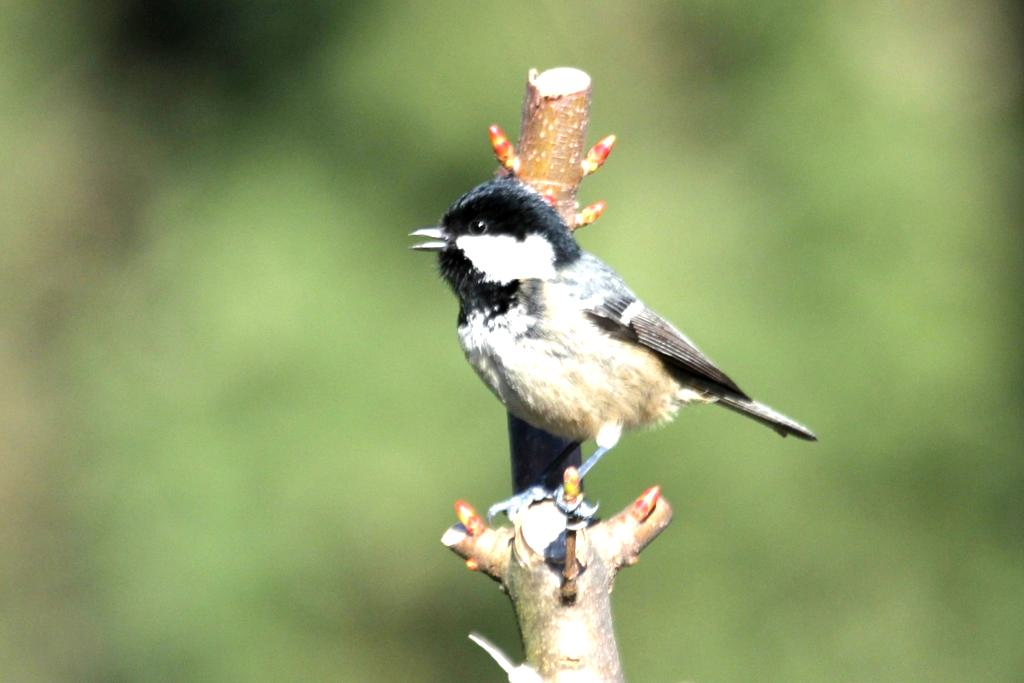PeriparusAter: (405, 173, 818, 532)
